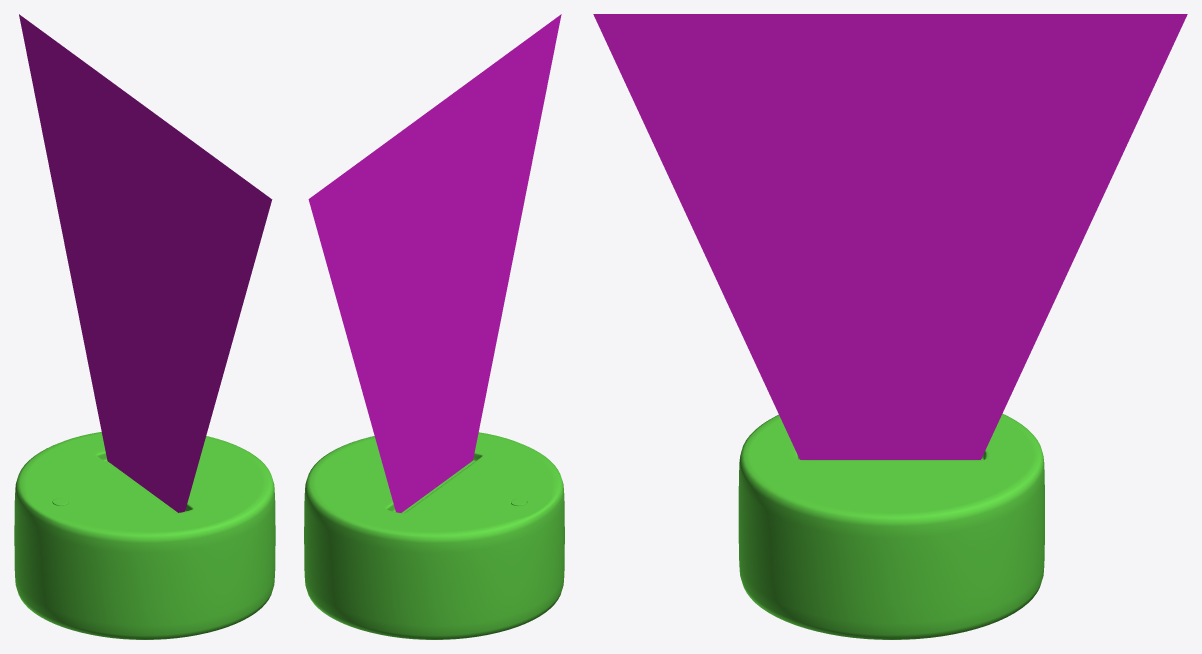
File: socle_holo.FBX
3 views of the same model, side by side, from view 1: azimuth 30°, elevation 25°; view 2: azimuth 150°, elevation 25°; view 3: azimuth 270°, elevation 25° (orthographic). The views are drawn at different scales.
Visible parts, largest first — view 1: Plane001, Cylinder002; view 2: Plane001, Cylinder002; view 3: Plane001, Cylinder002.
Boxes of the visible parts, x1=… form: Plane001: x1=19, y1=14, x2=272, y2=512; Cylinder002: x1=14, y1=432, x2=275, y2=639; Plane001: x1=308, y1=14, x2=561, y2=512; Cylinder002: x1=304, y1=432, x2=564, y2=639; Plane001: x1=593, y1=14, x2=1187, y2=459; Cylinder002: x1=738, y1=413, x2=1044, y2=639.
Bounding box in the file's own units: 21.6 × 43.9 × 41.92.
